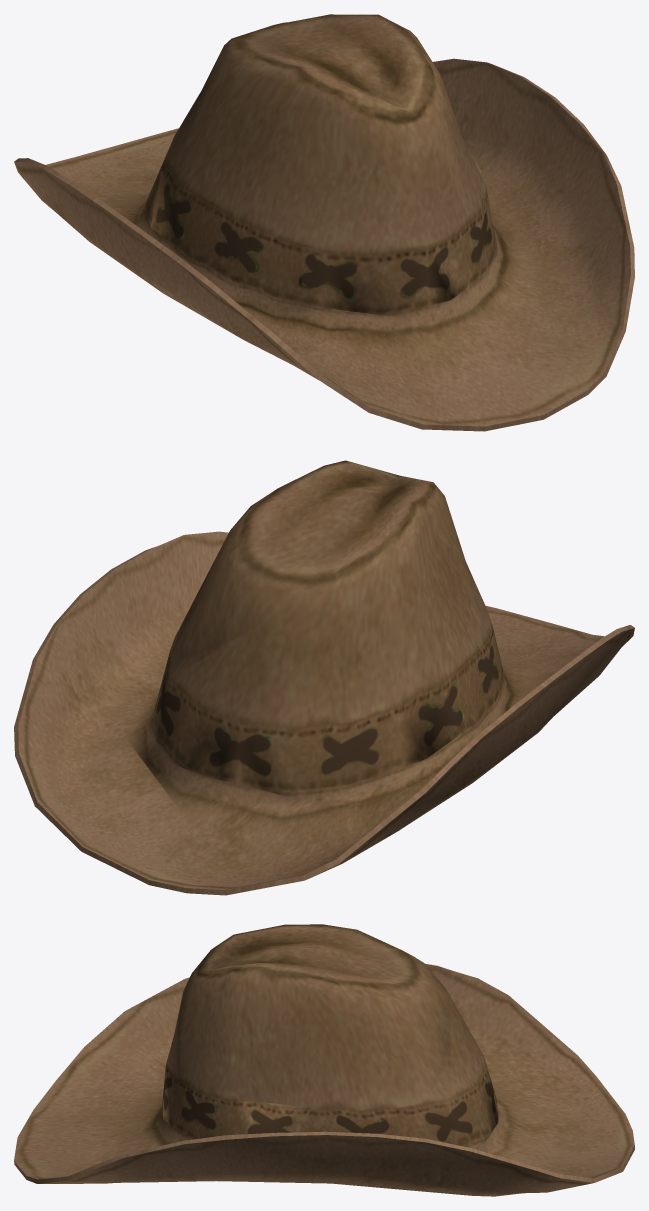
File: Hat.FBX
3 views of the same model, one above another, from view 1: azimuth 30°, elevation 25°; view 2: azimuth 150°, elevation 25°; view 3: azimuth 270°, elevation 25° (orthographic). The views are drawn at different scales.
Parts seen in each view (by area): view 1: hat; view 2: hat; view 3: hat.
Part boxes in pixels (x1,y1,x2,y2): hat: (14, 14, 634, 431); hat: (14, 460, 634, 895); hat: (14, 924, 634, 1196).
Size of the model in its own units: 21.23 by 11.34 by 30.69.
1 material, 1 textured.
